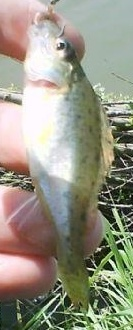Gymnocephalus cernuus: (20, 20, 113, 310)
